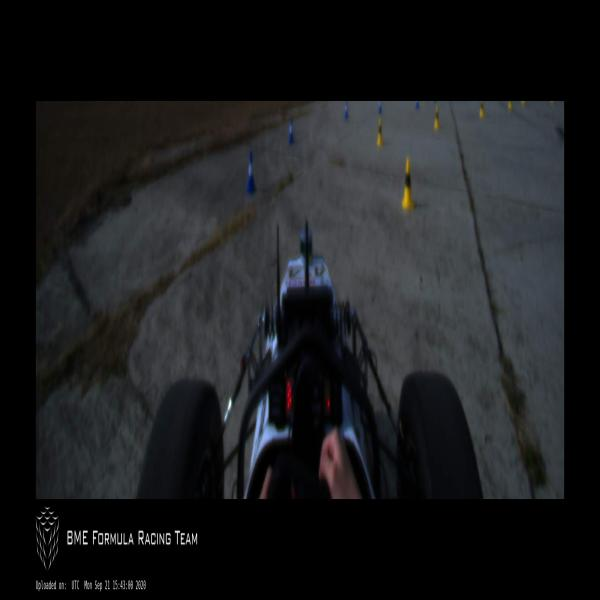blue_cone: (246, 150, 257, 196), (288, 118, 294, 144), (344, 101, 349, 121), (378, 101, 382, 115)
yellow_cone: (401, 157, 415, 212), (376, 117, 384, 148), (434, 104, 440, 130), (480, 101, 485, 115)
